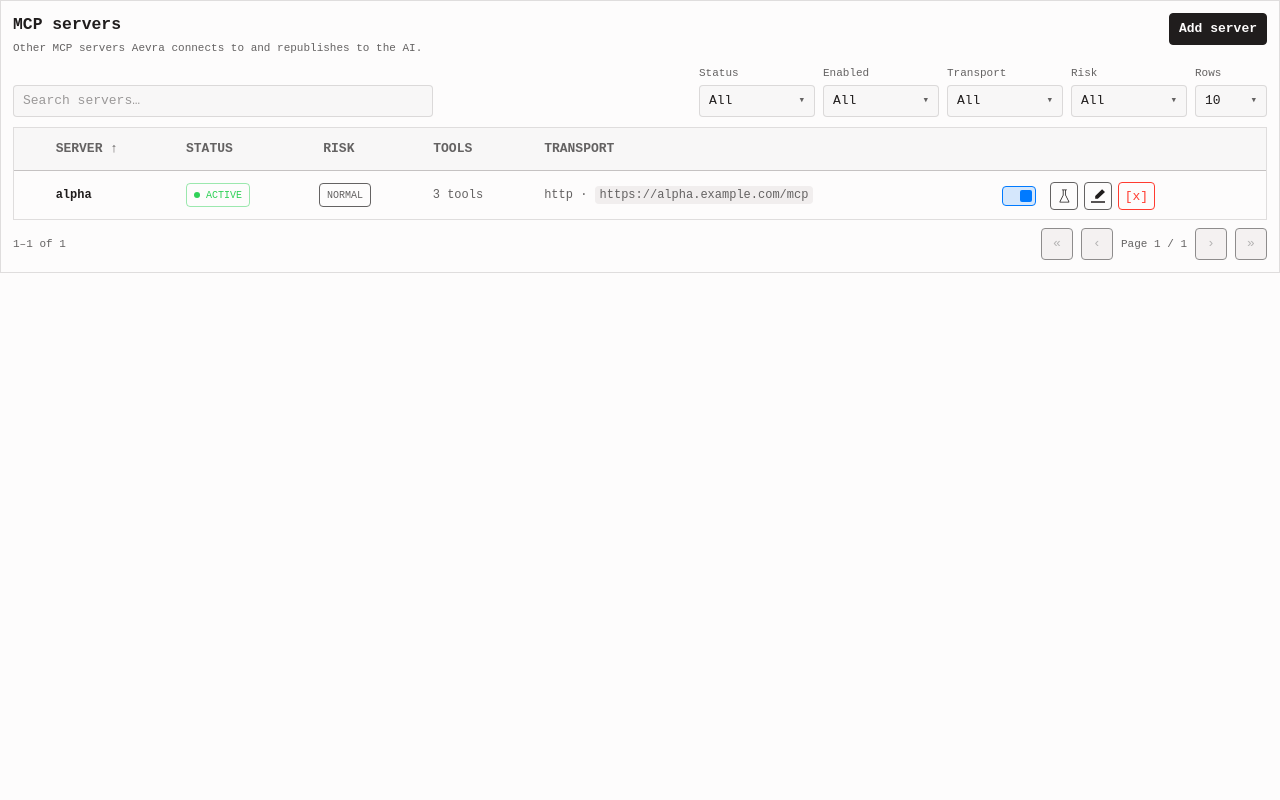
Scenario: McpUpstreamsSettings default services › shows the default failed-connection message when a test has no message
Click the button named "Test alpha": [1064, 196] box [1050,182,1078,210]
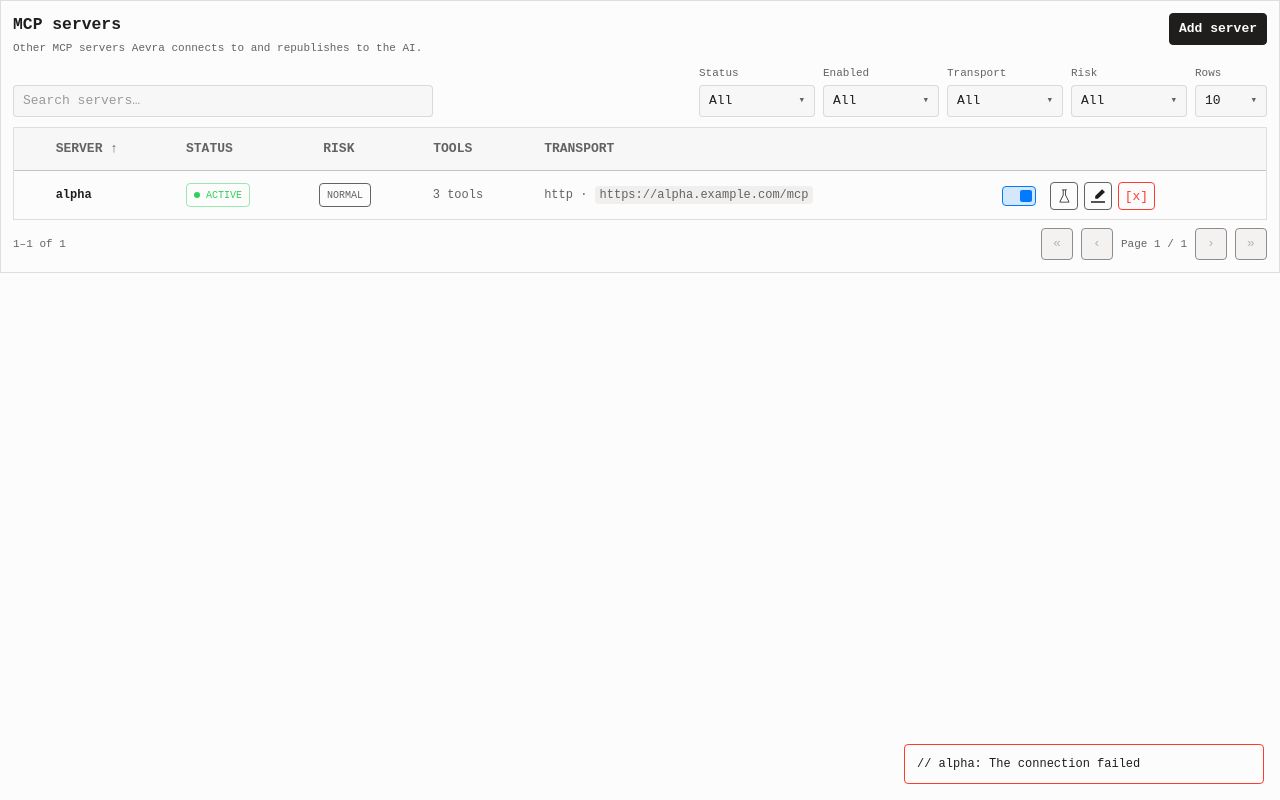
Expected: the text "alpha: The connection failed" is shown, [904,744,1264,784]
